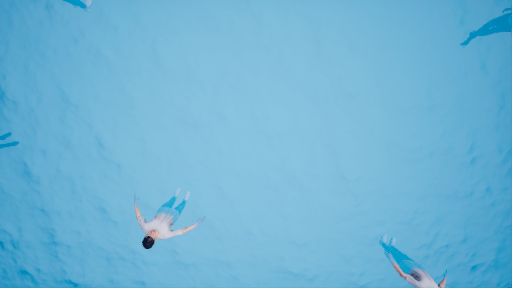person: (126, 186, 209, 249), (380, 232, 448, 288)
